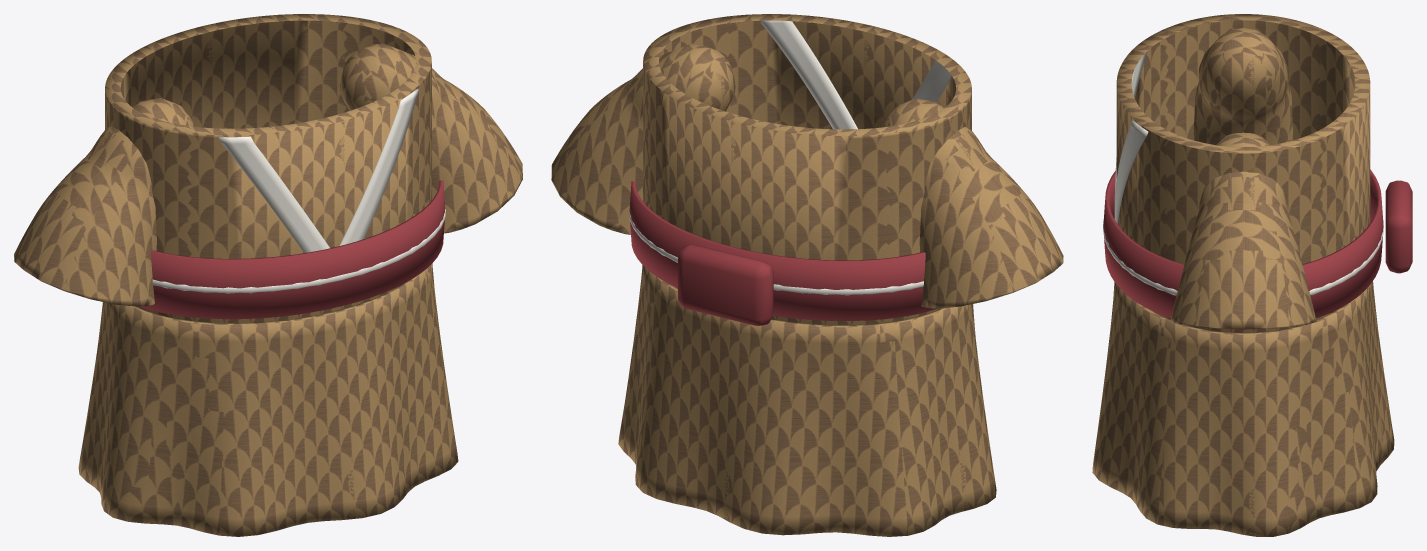
File: kimono3.fbx
The picture shows the model from 3 angles, left to right: view 1: azimuth 30°, elevation 25°; view 2: azimuth 150°, elevation 25°; view 3: azimuth 270°, elevation 25°; orthographic projection. The views are drawn at different scales.
Visible parts, largest first — view 1: kimono3; view 2: kimono3; view 3: kimono3.
Part boxes in pixels (box(x1,y1,x2,y2)): kimono3: box(14, 14, 522, 536); kimono3: box(551, 14, 1063, 536); kimono3: box(1092, 14, 1412, 536).
Bounding box in the file's own units: 1.4 × 1.07 × 0.8305.
Materials: 3 (1 with a texture image).
